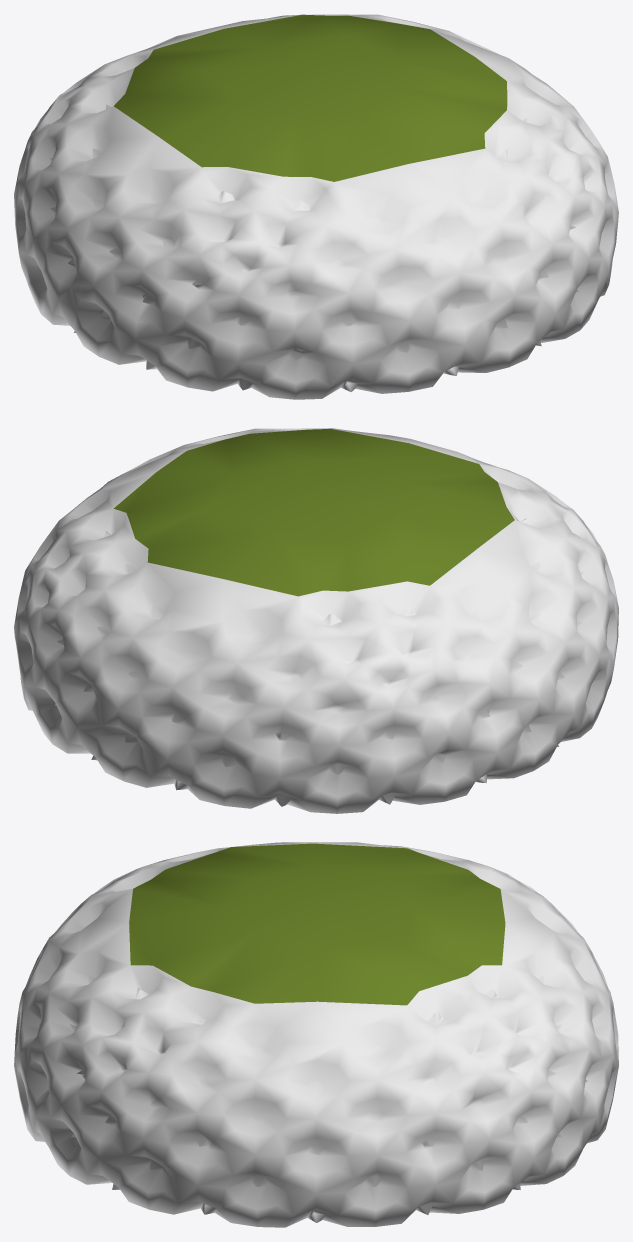
Rendered from JordGubbeTop.fbx.
3 renders of one model, top to bottom at view 1: azimuth 30°, elevation 25°; view 2: azimuth 150°, elevation 25°; view 3: azimuth 270°, elevation 25°, orthographic.
Parts seen in each view (by area): view 1: BerryTop; view 2: BerryTop; view 3: BerryTop.
Boxes of the visible parts, x1,y1,x2,y2 form: BerryTop: (14, 14, 618, 399); BerryTop: (14, 428, 618, 813); BerryTop: (14, 842, 618, 1227).
Size of the model in its own units: 4.08 by 1.54 by 4.08.
